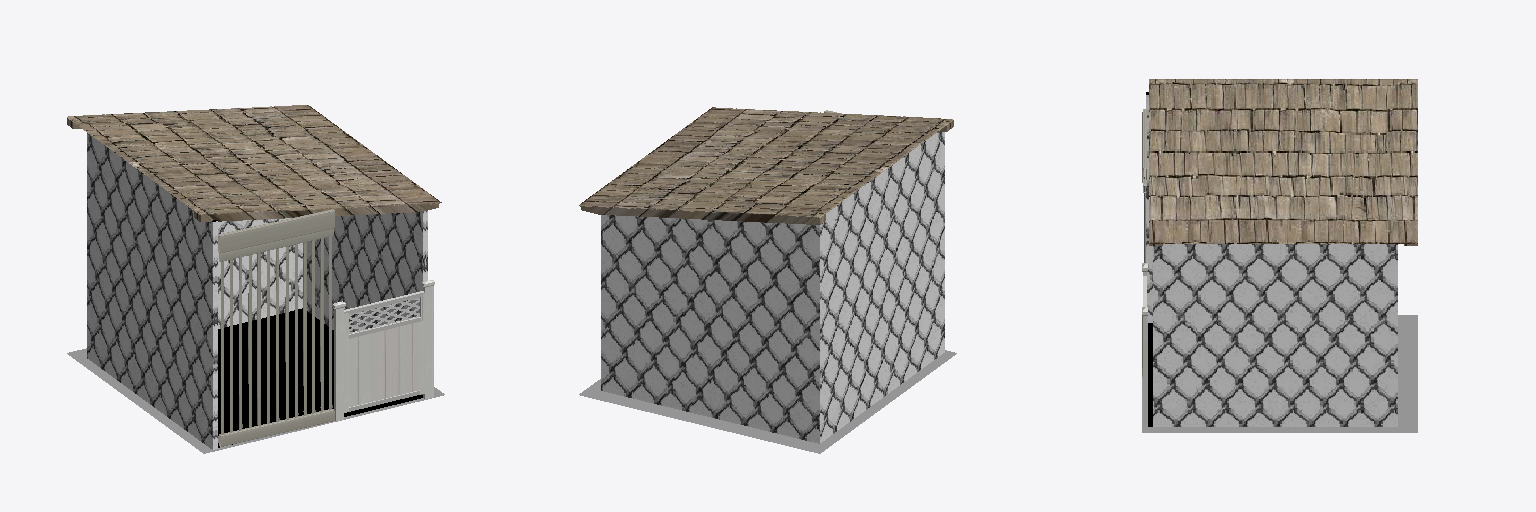
3 renders of one model, left to right at view 1: azimuth 30°, elevation 25°; view 2: azimuth 150°, elevation 25°; view 3: azimuth 270°, elevation 25°, orthographic.
Parts seen in each view (by area): view 1: polySurface2; view 2: polySurface2; view 3: polySurface2.
Boxes of the visible parts, box(x1,y1,x2,y2) form: polySurface2: box(67, 105, 444, 453); polySurface2: box(579, 107, 956, 453); polySurface2: box(1142, 79, 1417, 432).
Bounding box in the file's own units: 16.32 × 15.24 × 16.1.
8 materials, 3 textured.